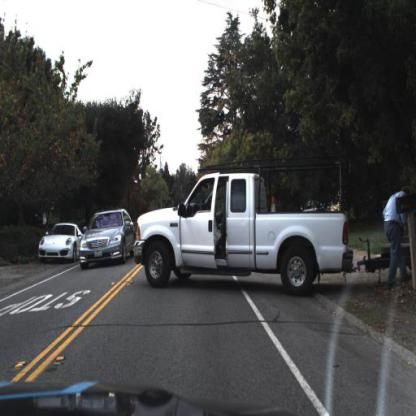car: (78, 202, 138, 275), (38, 222, 86, 271)
pedestrian: (380, 181, 416, 287)
truck: (126, 165, 414, 290)
